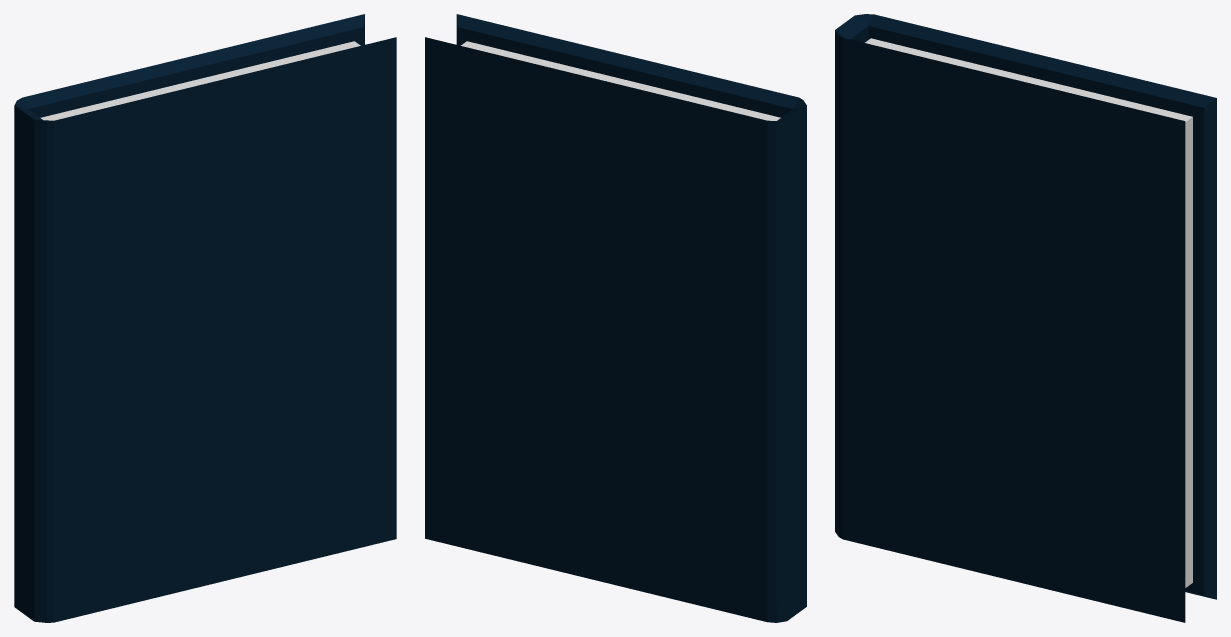
File: Book.glb
3 views of the same model, side by side, from view 1: azimuth 30°, elevation 25°; view 2: azimuth 150°, elevation 25°; view 3: azimuth 330°, elevation 25° (orthographic).
Visible parts, largest first — view 1: BookCover, Cube; view 2: BookCover, Cube; view 3: BookCover, Cube.
Boxes of the visible parts, box(x1,y1,x2,y2) form: BookCover: box(14, 14, 396, 622); Cube: box(40, 41, 360, 120); BookCover: box(425, 14, 806, 622); Cube: box(461, 41, 780, 120); BookCover: box(835, 14, 1216, 622); Cube: box(865, 38, 1192, 587).
Bounding box in the file's own units: 0.52 × 0.7 × 0.08.
